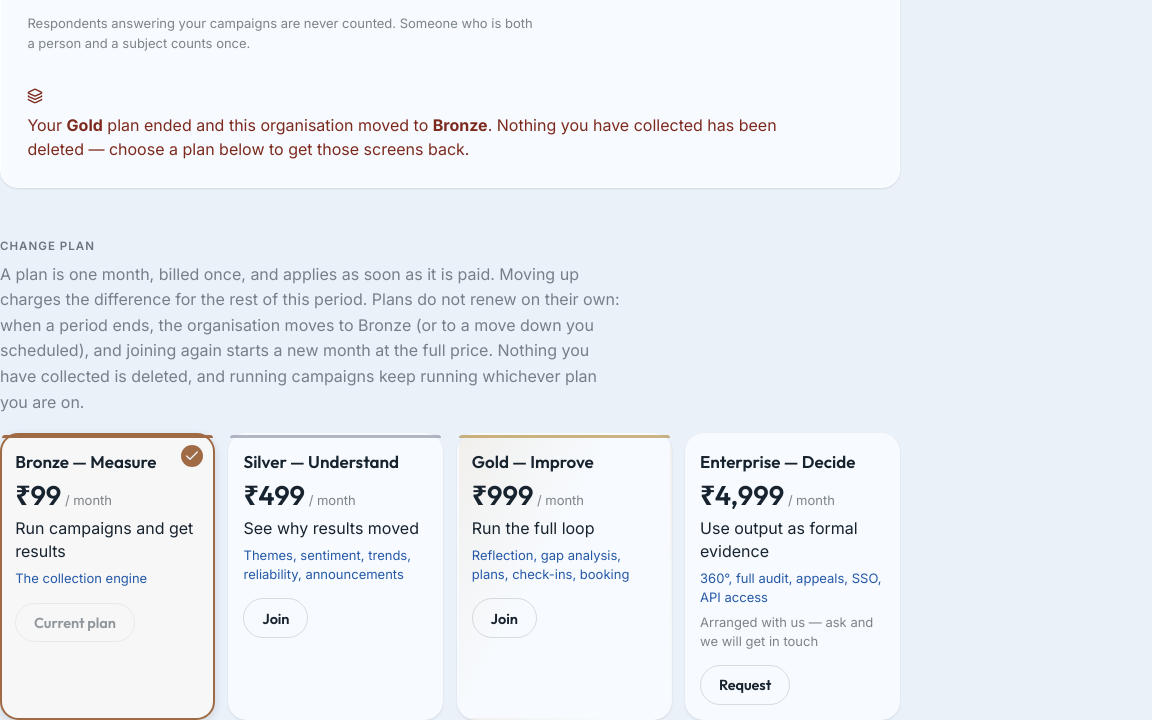
Plan › prices a rejoin after a lapse at the full amount the server charges
The image size is (1152, 720).
(page scrolled)
Click the button "Join" below "Run the full loop" at coordinates (504, 618), box top-left (472, 598), bottom-right (537, 638)
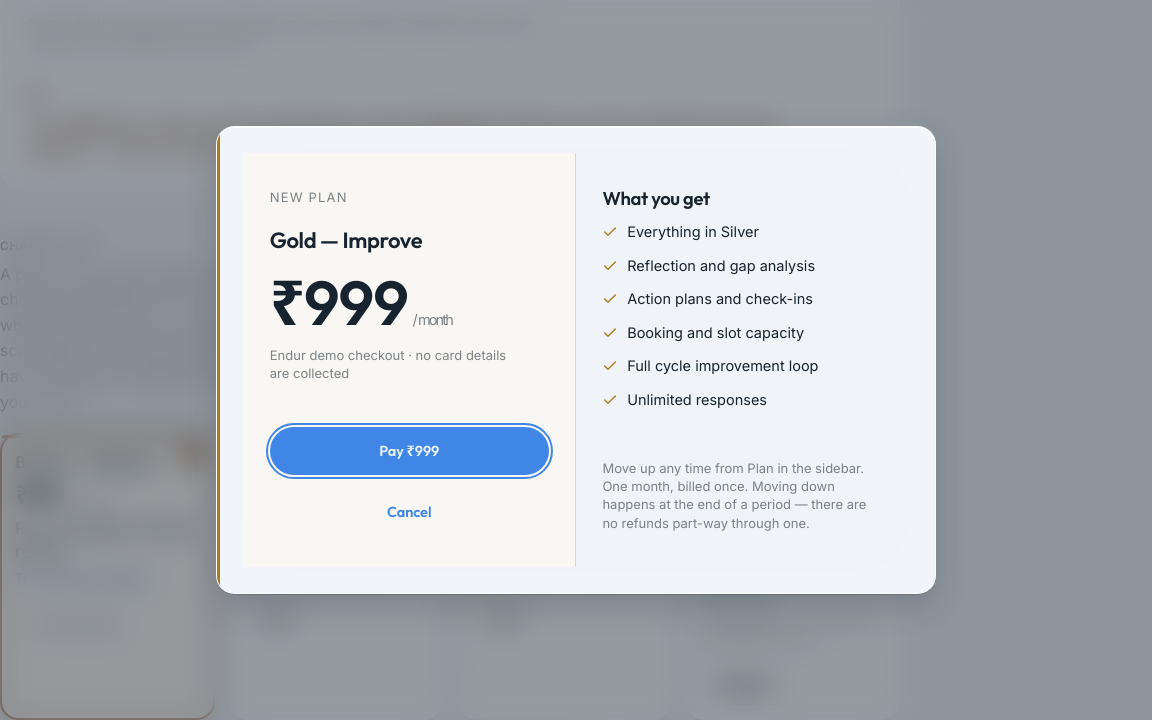
Expected: the button "Pay ₹999" is shown, top-left (270, 427), bottom-right (549, 475)
